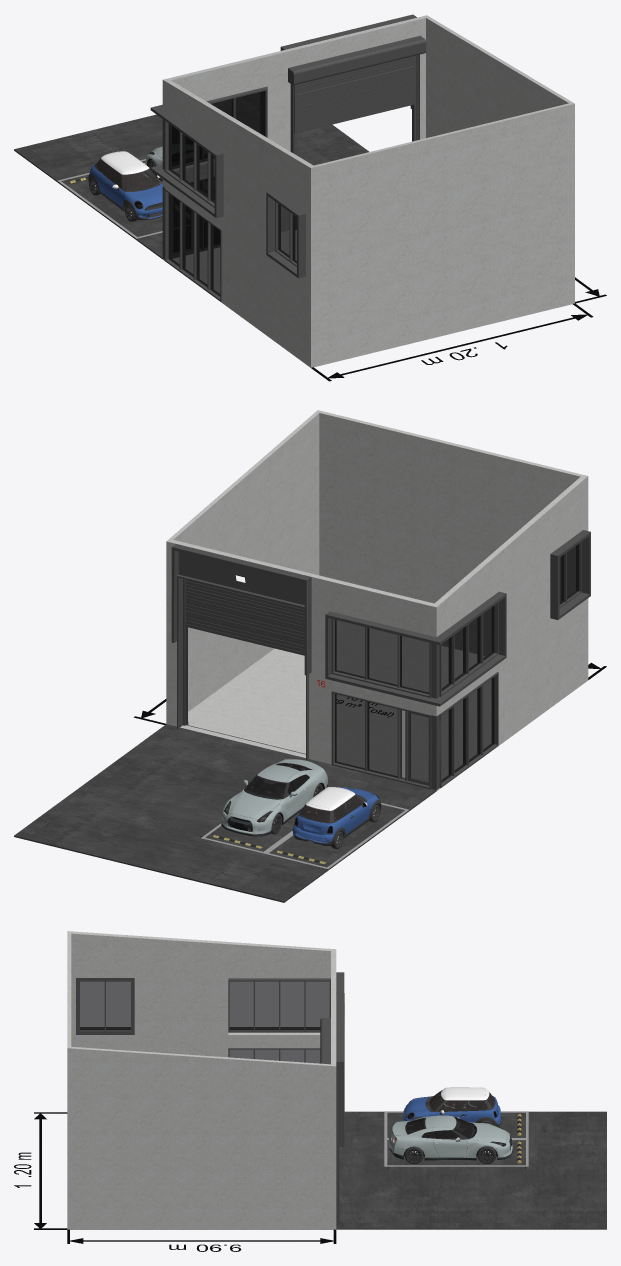
Rendered from Without_Mezzanine.glb.
The picture shows the model from 3 angles, top to bottom: view 1: azimuth 30°, elevation 25°; view 2: azimuth 150°, elevation 25°; view 3: azimuth 270°, elevation 25°; orthographic projection. The views are drawn at different scales.
Visible parts, largest first — view 1: Object1746169897.002, Shape217.001, Box2131646516.001, Box2131647078.002, Object1746169898.001, Segment 005.001, AM132_041_25.002, Rectangle2133403701.001, Object1746169889.002, Rectangle2133403702.001, Shape218.001, Rectangle2133403703.001 (+2 smaller); view 2: Object1746169897.002, Box2131647078.002, Shape217.001, Box2131646516.001, Shape218.001, Object1746169898.001, Segment 005.001, AM132_033_39.002, AM132_041_25.002, Component#120 [25525]107.001, Rectangle2133403701.001, Component#121 [25528]107.001 (+3 smaller); view 3: Object1746169898.001, Box2131647078.002, Shape217.001, Box2131646516.001, AM132_033_39.002, Rectangle2133403701.001, AM132_041_25.002, Rectangle2133403703.001, Object1746169897.002, Component#121 [25528]107.001, Rectangle2133403702.001, DIM_Line_006.003 (+3 smaller).
Boxes of the visible parts, left/top/right/bottom form: Object1746169897.002: left=314, top=102, right=574, bottom=366; Shape217.001: left=162, top=15, right=429, bottom=367; Box2131646516.001: left=150, top=87, right=267, bottom=301; Box2131647078.002: left=14, top=92, right=369, bottom=258; Object1746169898.001: left=426, top=17, right=572, bottom=137; Segment 005.001: left=294, top=56, right=414, bottom=133; AM132_041_25.002: left=88, top=151, right=162, bottom=221; Rectangle2133403701.001: left=266, top=190, right=305, bottom=278; Object1746169889.002: left=288, top=35, right=426, bottom=85; Rectangle2133403702.001: left=162, top=77, right=267, bottom=151; Shape218.001: left=162, top=230, right=296, bottom=302; Rectangle2133403703.001: left=162, top=159, right=222, bottom=229; Object1746169897.002: left=316, top=410, right=582, bottom=655; Box2131647078.002: left=14, top=724, right=436, bottom=902; Shape217.001: left=166, top=475, right=588, bottom=764; Box2131646516.001: left=325, top=591, right=506, bottom=789; Shape218.001: left=180, top=620, right=496, bottom=790; Object1746169898.001: left=169, top=412, right=319, bottom=711; Segment 005.001: left=185, top=579, right=304, bottom=655; AM132_033_39.002: left=221, top=759, right=327, bottom=836; AM132_041_25.002: left=292, top=787, right=381, bottom=849; Component#120 [25525]107.001: left=178, top=551, right=304, bottom=605; Rectangle2133403701.001: left=550, top=530, right=590, bottom=619; Component#121 [25528]107.001: left=171, top=544, right=311, bottom=675; Object1746169898.001: left=71, top=1047, right=330, bottom=1229; Box2131647078.002: left=336, top=1111, right=606, bottom=1229; Shape217.001: left=67, top=931, right=336, bottom=1229; Box2131646516.001: left=228, top=972, right=344, bottom=1063; AM132_033_39.002: left=388, top=1115, right=512, bottom=1163; Rectangle2133403701.001: left=76, top=978, right=134, bottom=1034; AM132_041_25.002: left=403, top=1087, right=501, bottom=1126; Rectangle2133403703.001: left=228, top=1032, right=320, bottom=1048; Object1746169897.002: left=67, top=933, right=71, bottom=1229; Component#121 [25528]107.001: left=336, top=1003, right=344, bottom=1146; Rectangle2133403702.001: left=228, top=969, right=330, bottom=978; DIM_Line_006.003: left=67, top=1229, right=336, bottom=1243.
Size of the model in its own units: 12.63 by 7.52 by 22.19.
56 materials, 7 textured.
